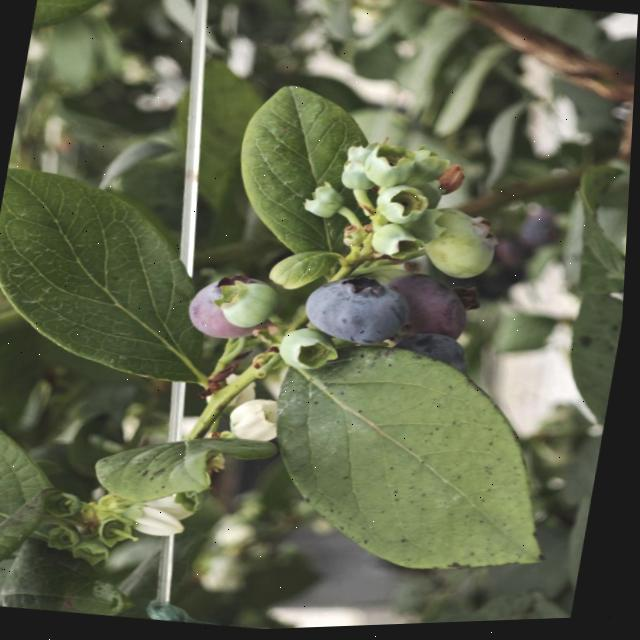RipeBlueBerry: (299, 266, 420, 354)
Semi-RipeBlueBerry: (186, 268, 273, 344), (390, 271, 481, 341)
UnripeBlueBerry: (412, 202, 509, 285), (215, 274, 283, 333), (359, 142, 422, 194), (280, 326, 346, 375), (377, 184, 435, 229)
